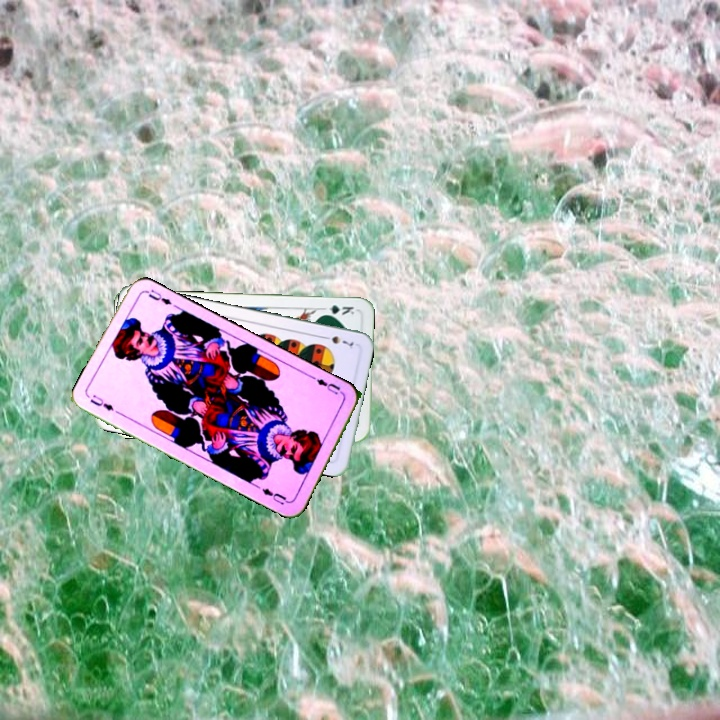EU: (309, 372, 346, 398), (86, 390, 116, 414)
GK: (317, 301, 357, 318)
S7: (318, 332, 356, 351)
